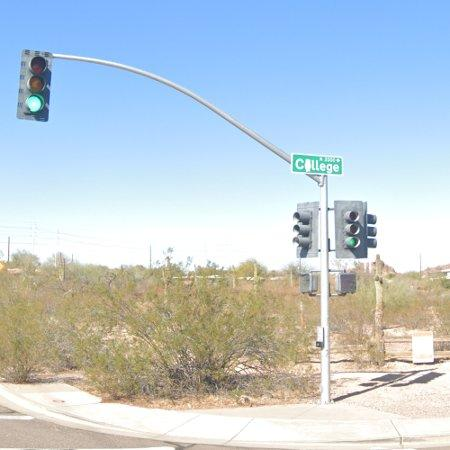traffic lights: (15, 49, 51, 121), (334, 199, 368, 261), (294, 201, 319, 260)
